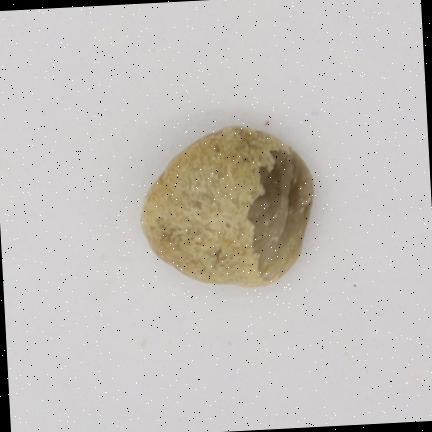immature: (143, 127, 314, 284)
